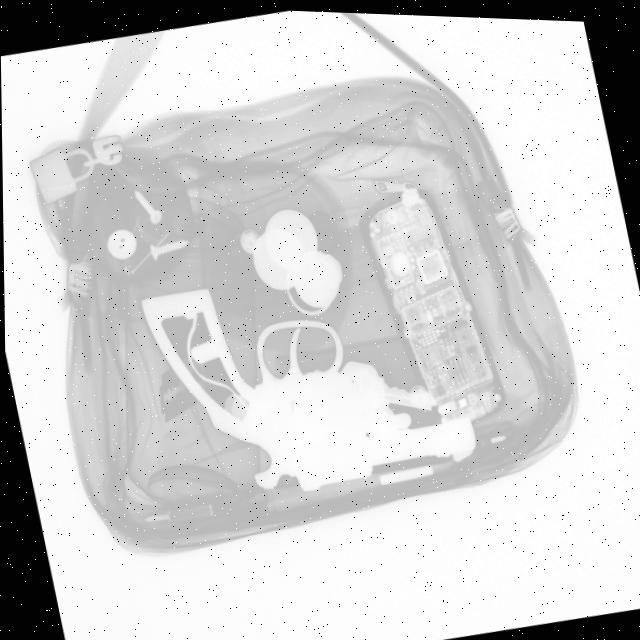pistol: (137, 236, 482, 518)
